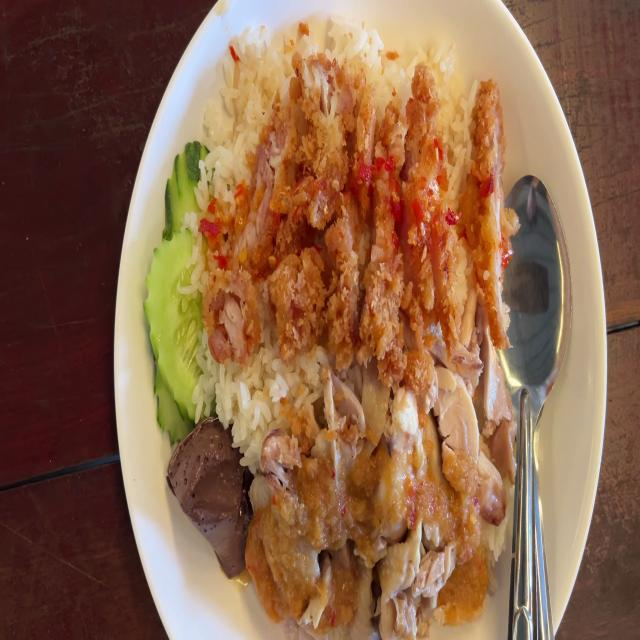boiled_chicken: (241, 363, 508, 622)
boiled_chicken_blood_jelly: (166, 414, 247, 571)
chicken_rice: (152, 16, 509, 640)
cucumber: (148, 130, 220, 416)
fried_chicken: (218, 55, 508, 359)
